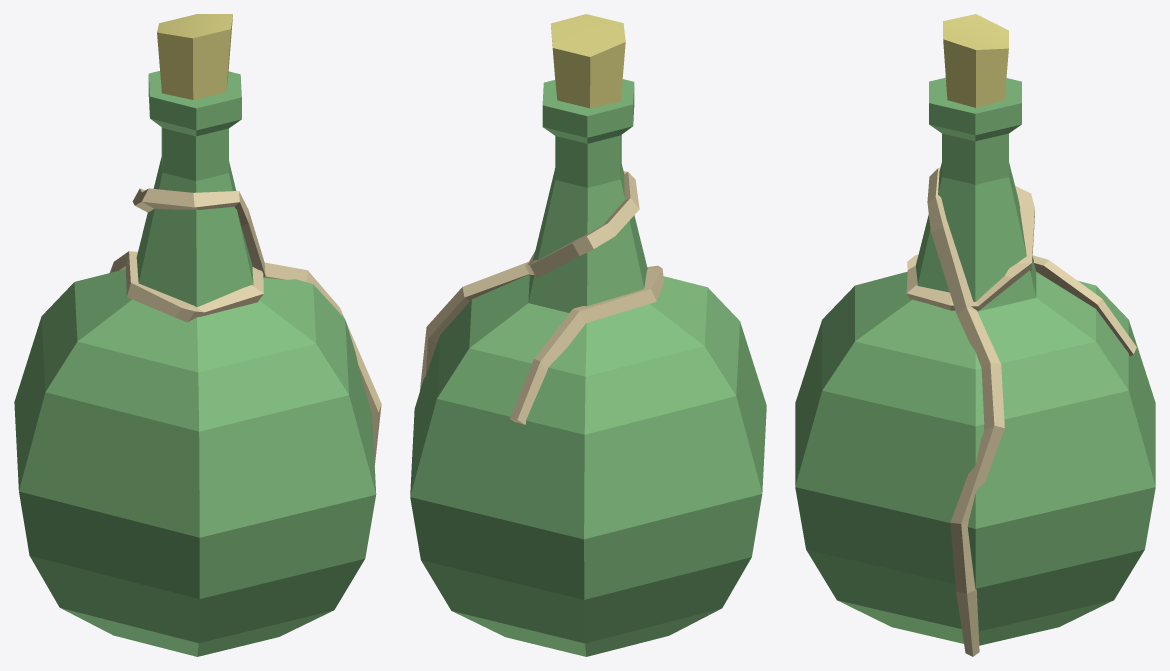
The model's file is Bottle_1.fbx.
3 renders of one model, left to right at view 1: azimuth 30°, elevation 25°; view 2: azimuth 150°, elevation 25°; view 3: azimuth 270°, elevation 25°, orthographic. The views are drawn at different scales.
Visible parts, largest first — view 1: Bottle_1; view 2: Bottle_1; view 3: Bottle_1.
Part boxes in pixels (box(x1,y1,x2,y2)): Bottle_1: box(14, 14, 381, 656); Bottle_1: box(410, 14, 766, 656); Bottle_1: box(795, 14, 1155, 656).
Bounding box in the file's own units: 19.4 × 30.99 × 17.53.
1 material, 1 textured.
